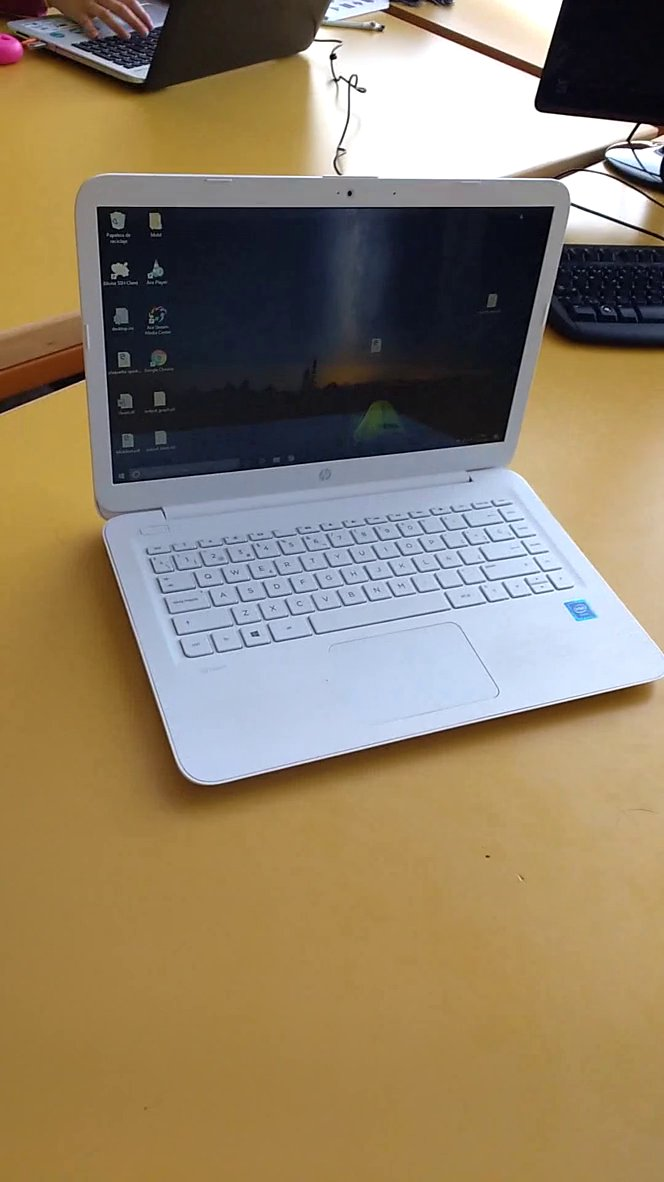laptop: (7, 2, 353, 113)
